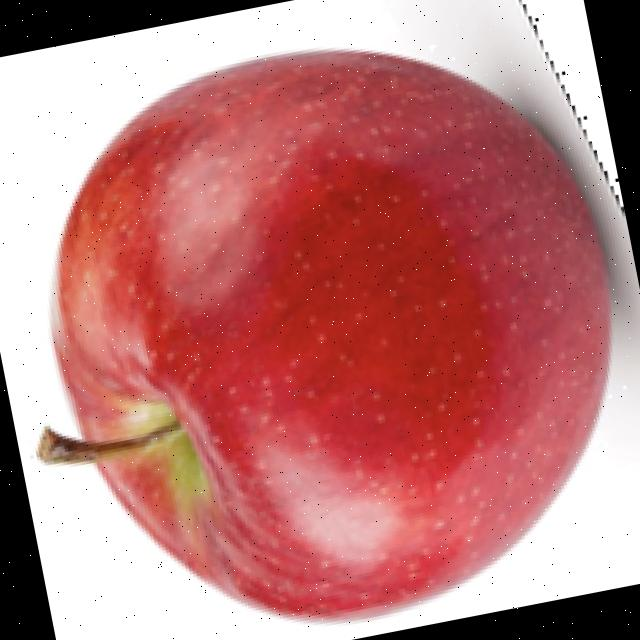apple: (27, 20, 640, 629)
